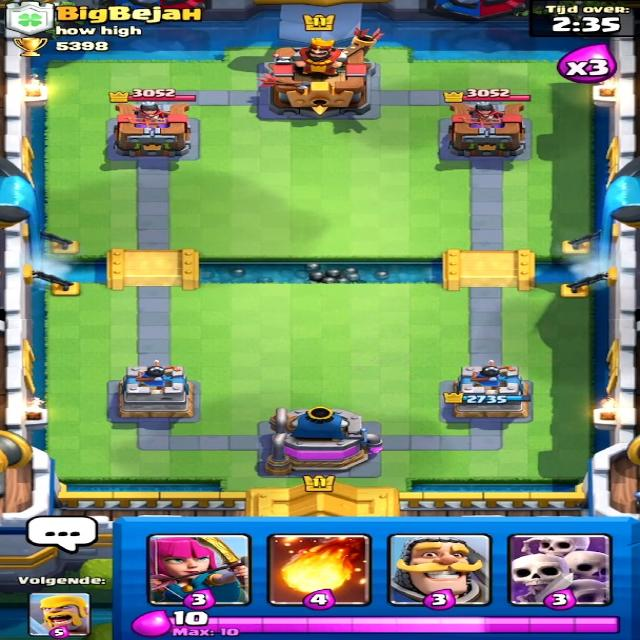Fireball_Card: (264, 538, 372, 608)
